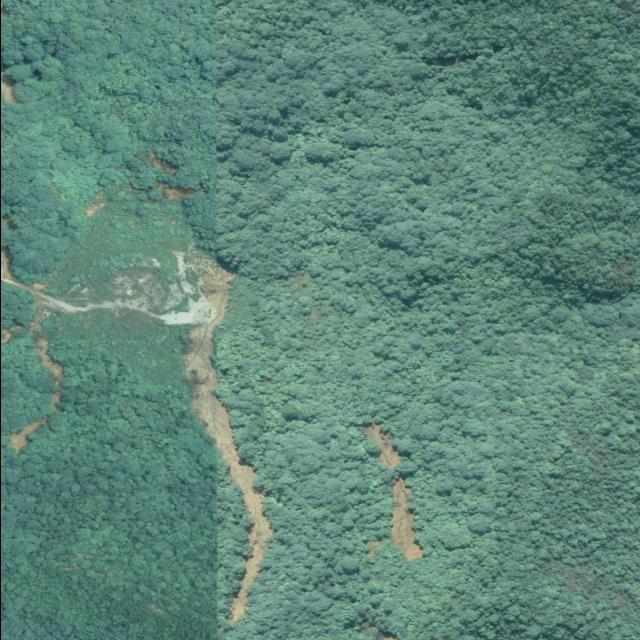landslide: (182, 268, 272, 626), (391, 476, 422, 561), (362, 422, 400, 469)
